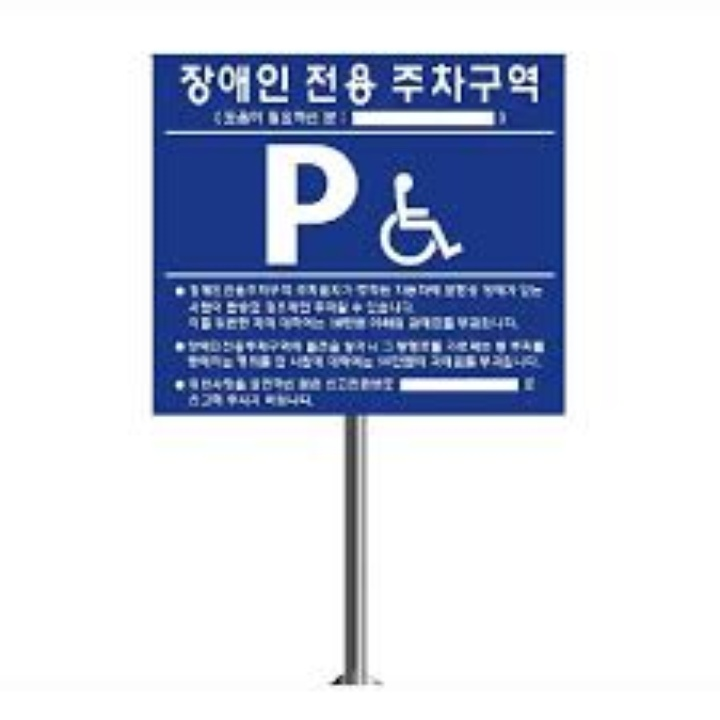parking: (259, 138, 363, 270)
